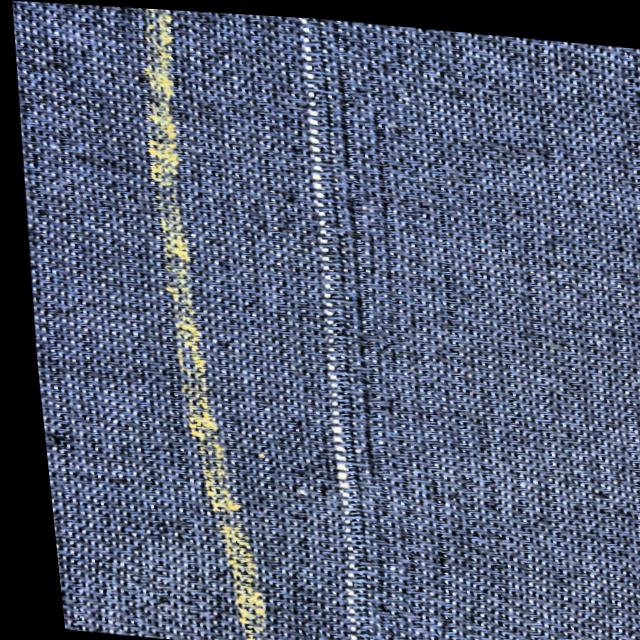Hole: (301, 398, 347, 463), (317, 564, 355, 618), (308, 474, 352, 514), (292, 60, 324, 109), (284, 13, 322, 50), (300, 299, 335, 339), (301, 346, 336, 381), (300, 238, 332, 276), (298, 178, 325, 220), (298, 122, 322, 162), (308, 624, 357, 640)
